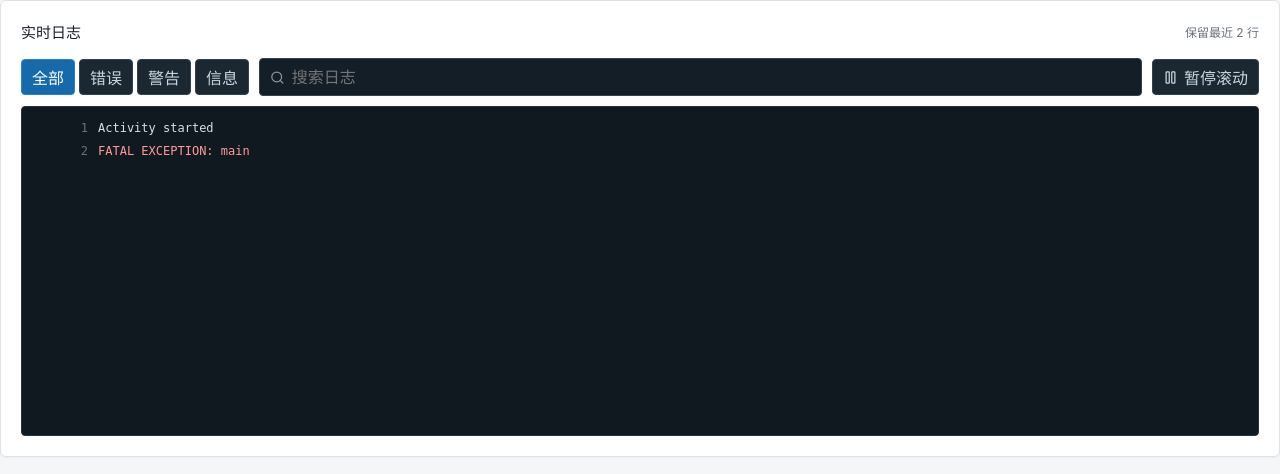
it: LogConsole › filters, searches, and pauses automatic scrolling
The image size is (1280, 474).
Click the button "错误": {"x": 106, "y": 77} [79,59,133,95]
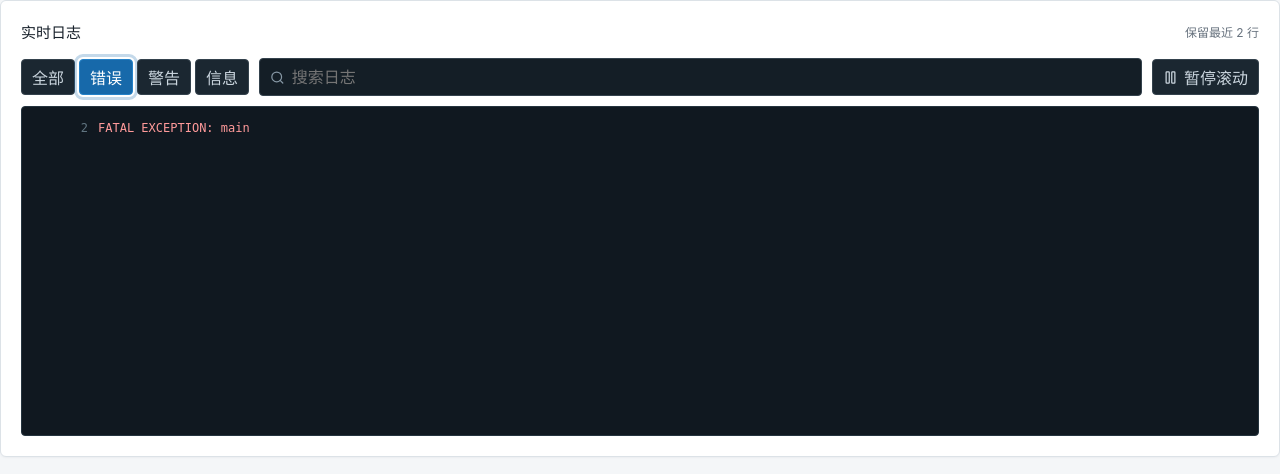
expect the text "FATAL EXCEPTION: main" is shown: met, box [98,121,250,135]
expect the text "Activity started" is gone: met
In the field labelled "搜索日志": {"x": 711, "y": 77} [292,59,1131,95], type "missing"
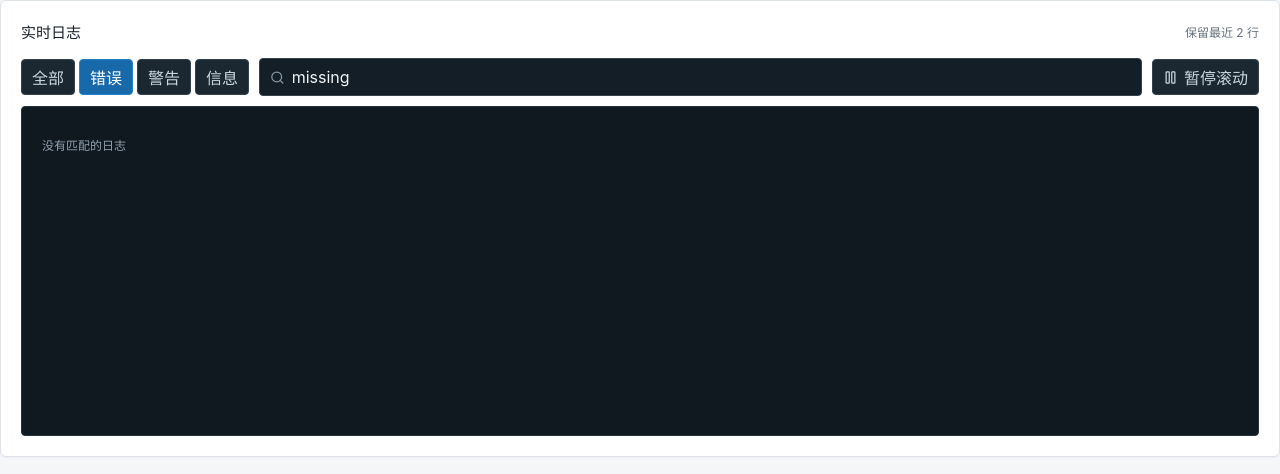
expect the text "没有匹配的日志" is shown: met, box [42,139,126,153]
Click the button "暂停滚动": {"x": 1206, "y": 77} [1152,59,1259,95]
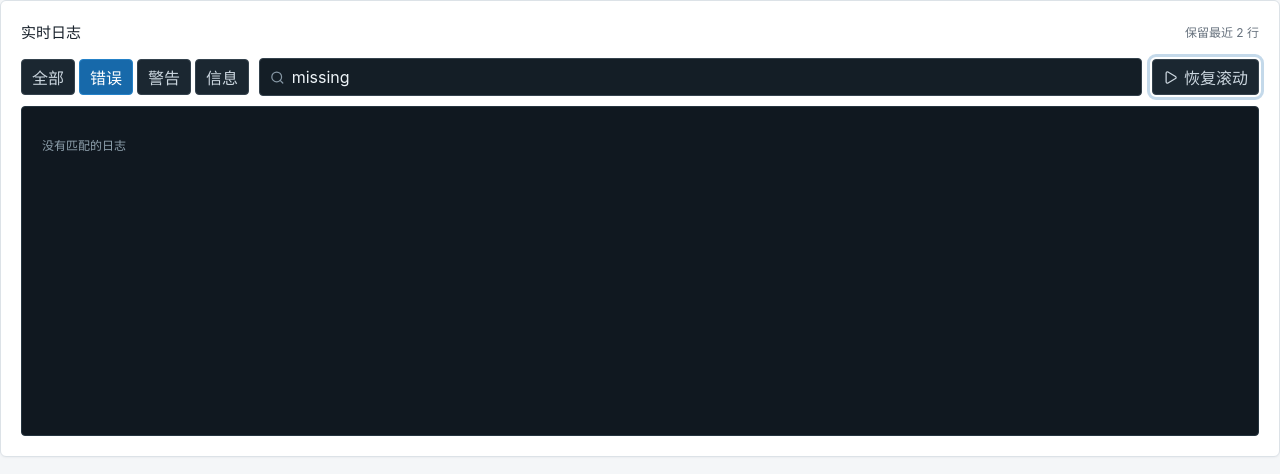
expect the button "恢复滚动" is shown: met, box [1152,59,1259,95]
